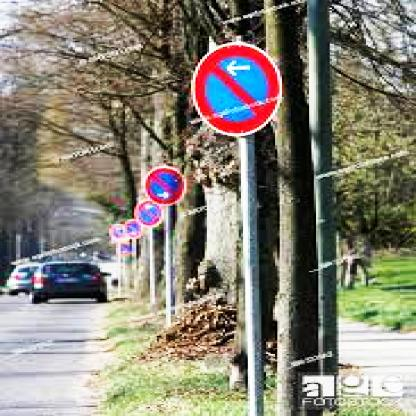No parking: (190, 36, 291, 138), (148, 154, 182, 212)
